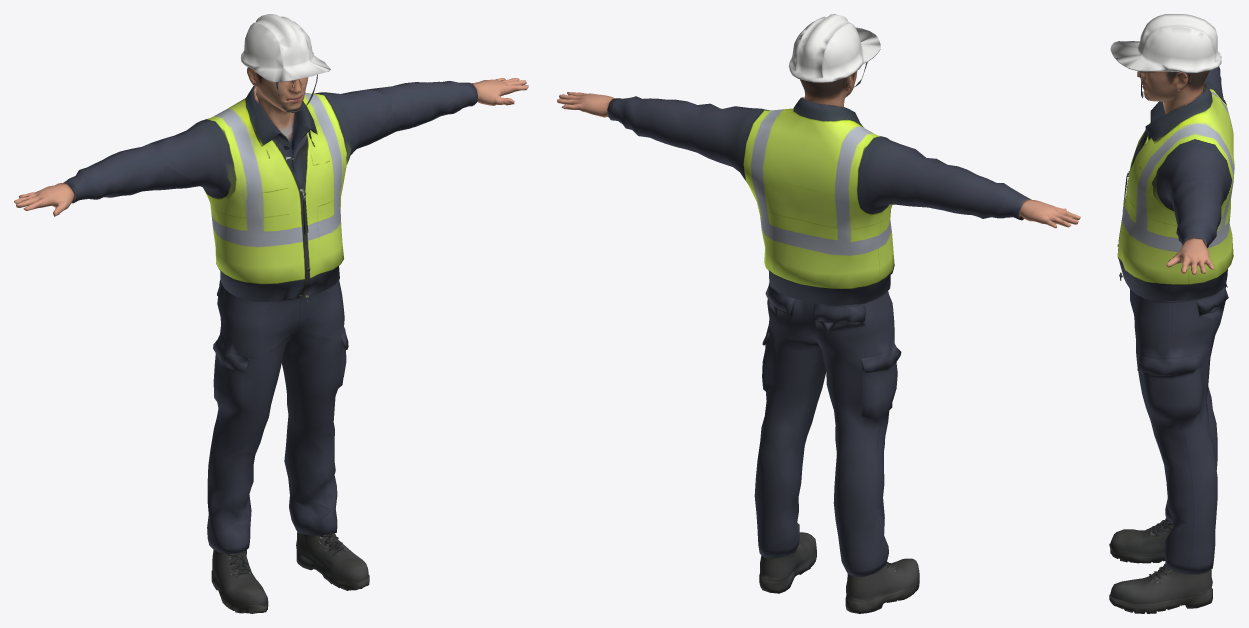
Rendered from selected.glb.
3 views of the same model, side by side, from view 1: azimuth 30°, elevation 25°; view 2: azimuth 150°, elevation 25°; view 3: azimuth 270°, elevation 25° (orthographic).
Visible parts, largest first — view 1: tripo_node_45bcac7c-9348-41e9-9e6f-3cc27f305a82; view 2: tripo_node_45bcac7c-9348-41e9-9e6f-3cc27f305a82; view 3: tripo_node_45bcac7c-9348-41e9-9e6f-3cc27f305a82.
Boxes of the visible parts, left/top/right/bottom form: tripo_node_45bcac7c-9348-41e9-9e6f-3cc27f305a82: left=14, top=14, right=528, bottom=613; tripo_node_45bcac7c-9348-41e9-9e6f-3cc27f305a82: left=557, top=14, right=1080, bottom=613; tripo_node_45bcac7c-9348-41e9-9e6f-3cc27f305a82: left=1109, top=14, right=1234, bottom=613.
Bounding box in the file's own units: 0.9512 × 0.998 × 0.2012.
1 material, 1 textured.
